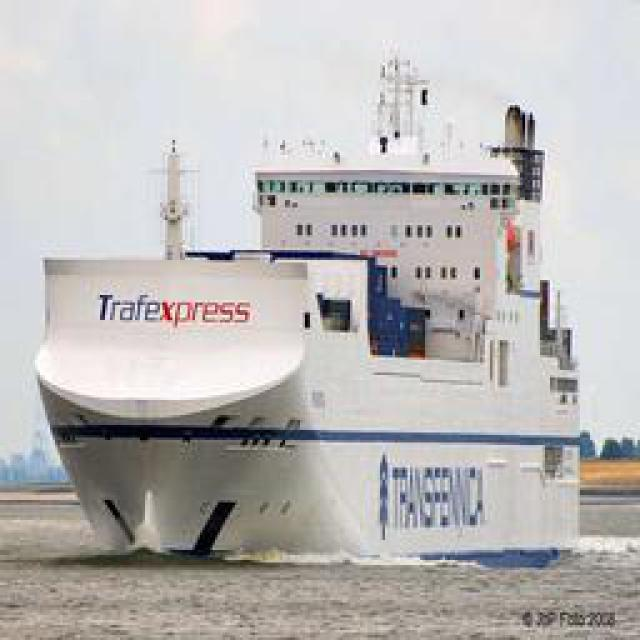Ship: (34, 54, 587, 567)
